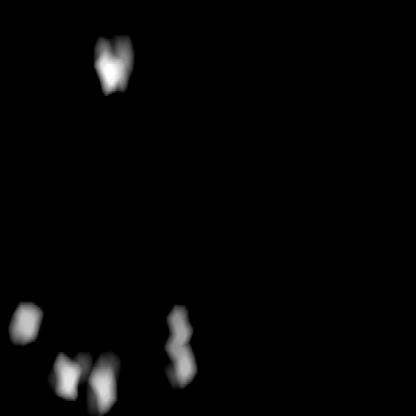fingers: (91, 36, 134, 94)
palm: (6, 291, 195, 406)
